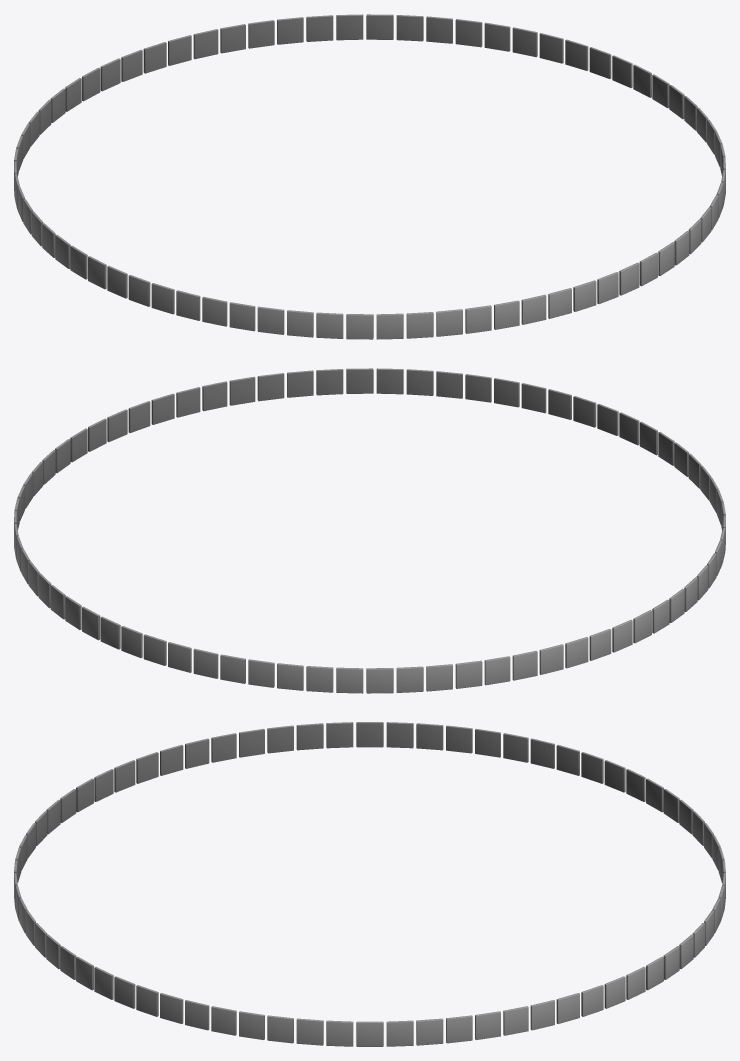
The model's file is Model_BlockGroup.FBX.
3 views of the same model, one above another, from view 1: azimuth 30°, elevation 25°; view 2: azimuth 150°, elevation 25°; view 3: azimuth 270°, elevation 25° (orthographic).
Visible parts, largest first — view 1: ChamferBox401, ChamferBox438, ChamferBox400, ChamferBox403, ChamferBox437, ChamferBox440, ChamferBox402, ChamferBox439, ChamferBox398, ChamferBox435, ChamferBox404, ChamferBox441 (+28 smaller); view 2: ChamferBox414, ChamferBox451, ChamferBox412, ChamferBox415, ChamferBox449, ChamferBox452, ChamferBox413, ChamferBox450, ChamferBox417, ChamferBox454, ChamferBox411, ChamferBox448 (+28 smaller); view 3: ChamferBox426, ChamferBox390, ChamferBox391, ChamferBox424, ChamferBox425, ChamferBox427, ChamferBox428, ChamferBox461, ChamferBox462, ChamferBox392, ChamferBox460, ChamferBox423 (+27 smaller).
Boxes of the visible parts, x1,y1,x2,y2 form: ChamferBox401: (366, 14, 393, 39); ChamferBox438: (346, 314, 373, 339); ChamferBox400: (396, 15, 423, 41); ChamferBox403: (306, 15, 333, 41); ChamferBox437: (316, 312, 343, 338); ChamferBox440: (406, 312, 433, 338); ChamferBox402: (336, 14, 363, 40); ChamferBox439: (376, 313, 403, 339); ChamferBox398: (455, 19, 482, 47); ChamferBox435: (257, 306, 284, 334); ChamferBox404: (277, 17, 303, 44); ChamferBox441: (436, 309, 462, 336); ChamferBox414: (366, 668, 393, 693); ChamferBox451: (346, 368, 373, 393); ChamferBox412: (306, 666, 333, 692); ChamferBox415: (396, 666, 423, 692); ChamferBox449: (406, 369, 433, 395); ChamferBox452: (316, 369, 343, 395); ChamferBox413: (336, 667, 363, 693); ChamferBox450: (376, 368, 403, 394); ChamferBox417: (455, 660, 482, 688); ChamferBox454: (257, 373, 284, 401); ChamferBox411: (277, 663, 303, 690); ChamferBox448: (436, 371, 462, 398); ChamferBox426: (356, 722, 383, 747); ChamferBox390: (386, 1020, 413, 1046); ChamferBox391: (416, 1018, 443, 1045); ChamferBox424: (416, 723, 443, 750); ChamferBox425: (386, 722, 413, 748); ChamferBox427: (326, 722, 353, 748); ChamferBox428: (296, 723, 323, 750); ChamferBox461: (296, 1018, 323, 1045); ChamferBox462: (326, 1020, 353, 1046); ChamferBox392: (446, 1015, 472, 1043); ChamferBox460: (267, 1015, 293, 1043); ChamferBox423: (446, 725, 472, 753).
Size of the model in its own units: 1318 by 50 by 1318.
